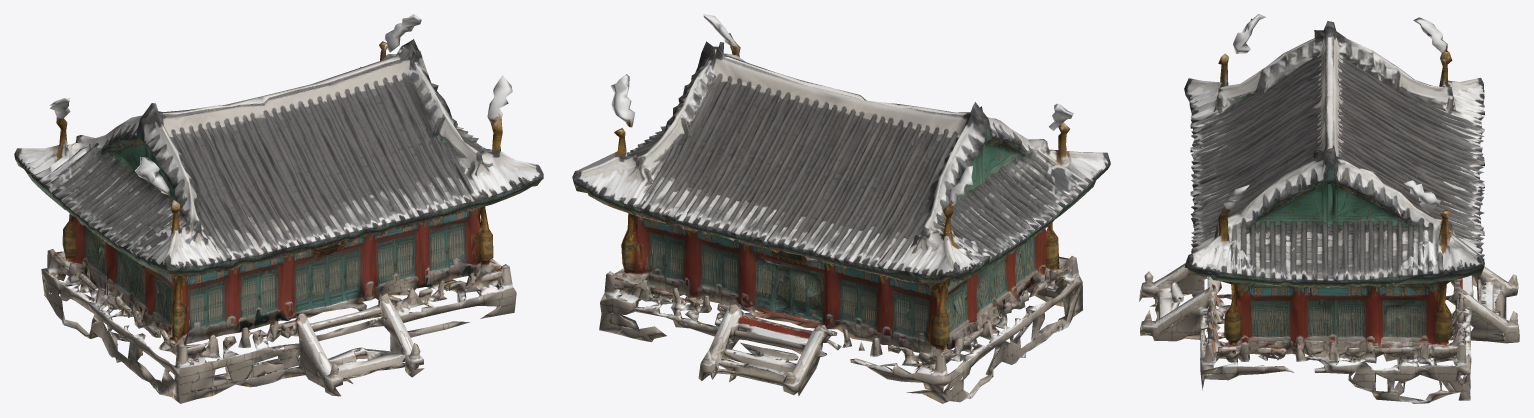
Rendered from PR_Sajeongjeon.fbx.
The picture shows the model from 3 angles, left to right: view 1: azimuth 30°, elevation 25°; view 2: azimuth 150°, elevation 25°; view 3: azimuth 270°, elevation 25°; orthographic projection. The views are drawn at different scales.
Parts seen in each view (by area): view 1: texture_mapping; view 2: texture_mapping; view 3: texture_mapping.
Boxes of the visible parts, bbox=[...] form: texture_mapping: bbox=[14, 14, 543, 403]; texture_mapping: bbox=[572, 14, 1110, 403]; texture_mapping: bbox=[1139, 14, 1519, 403].
Size of the model in its own units: 0.9958 by 0.882 by 0.6157.
Materials: 1 (1 with a texture image).
